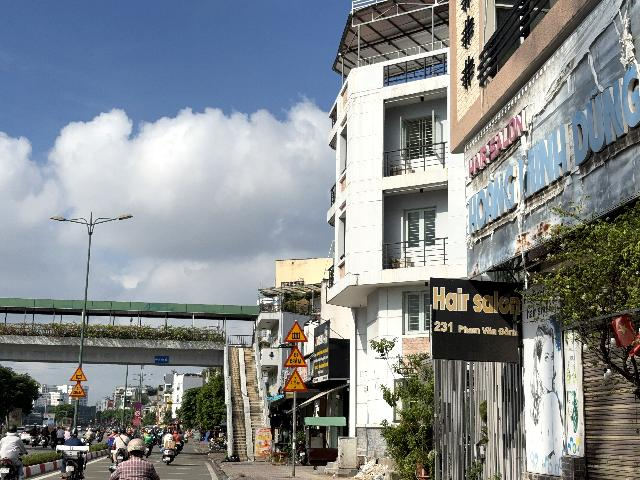chieu-cao-tinh-khong-thuc-te: (282, 368, 308, 392)
di-cham: (283, 345, 308, 367), (68, 381, 86, 397)
noi-giao-nhau-voi-duong-sat-co-rao-chan: (284, 321, 308, 342), (70, 366, 88, 381)
